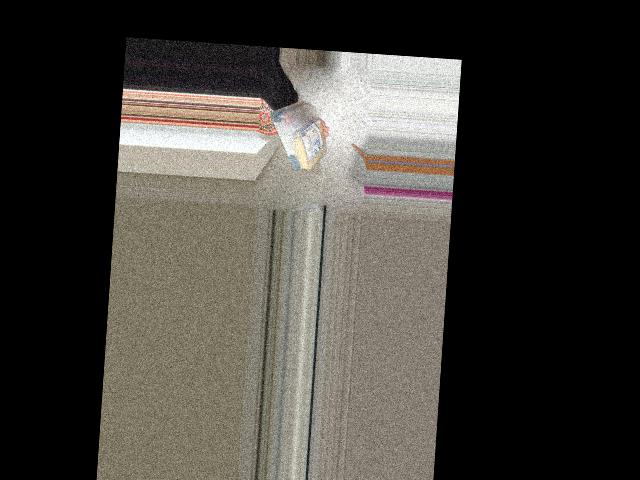cheese: (268, 87, 331, 176)
